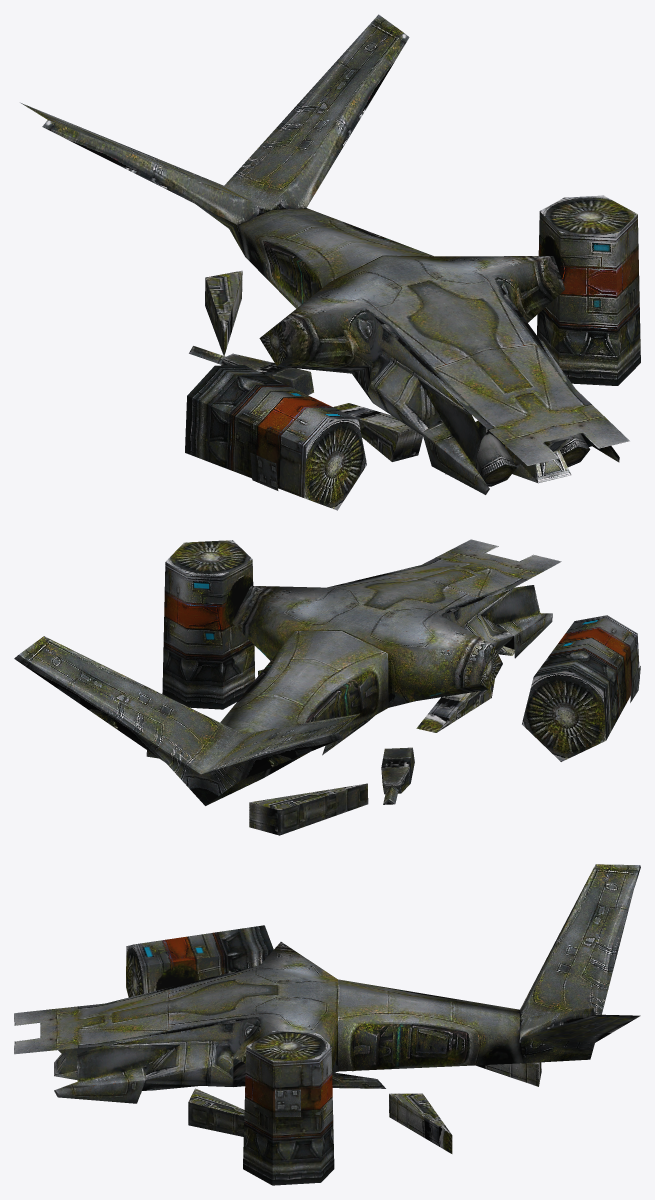
The model's file is Vehicle_Fj01_lod2.glb.
3 renders of one model, top to bottom at view 1: azimuth 30°, elevation 25°; view 2: azimuth 150°, elevation 25°; view 3: azimuth 270°, elevation 25°, orthographic. The views are drawn at different scales.
Parts seen in each view (by area): view 1: tianwang_fj01_lod2; view 2: tianwang_fj01_lod2; view 3: tianwang_fj01_lod2.
Boxes of the visible parts, x1=… form: tianwang_fj01_lod2: x1=20, y1=14, x2=640, y2=510; tianwang_fj01_lod2: x1=14, y1=539, x2=640, y2=835; tianwang_fj01_lod2: x1=14, y1=864, x2=640, y2=1185.
Size of the model in its own units: 21.87 by 8.89 by 30.85.
1 material, 1 textured.
